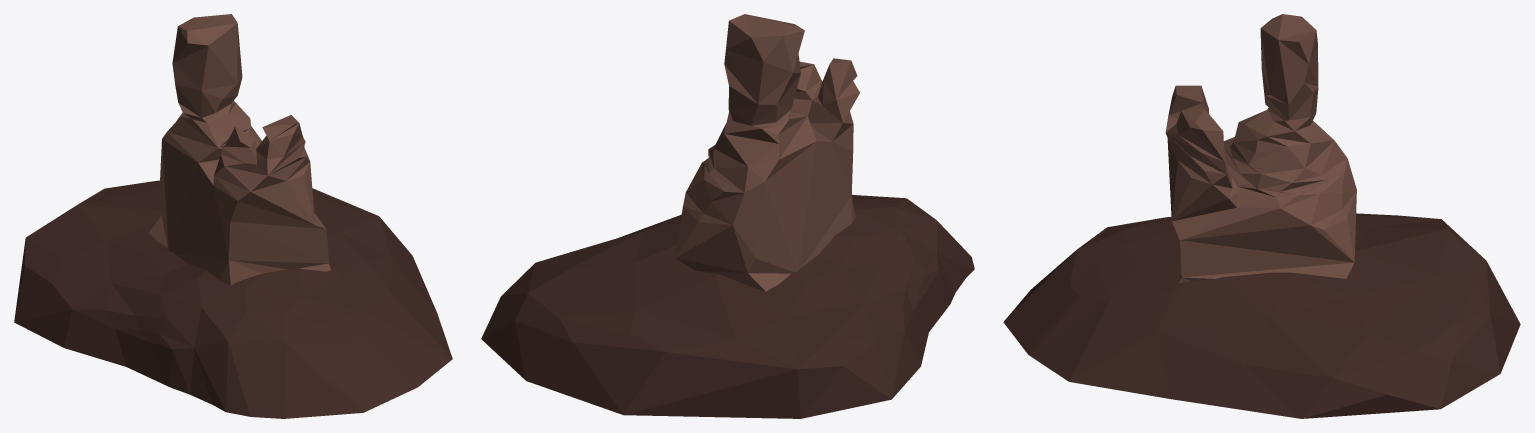
Rendered from Brown_rock_001.fbx.
The picture shows the model from 3 angles, left to right: view 1: azimuth 30°, elevation 25°; view 2: azimuth 150°, elevation 25°; view 3: azimuth 270°, elevation 25°; orthographic projection. The views are drawn at different scales.
Parts seen in each view (by area): view 1: Brown_rock_001; view 2: Brown_rock_001; view 3: Brown_rock_001.
Part boxes in pixels (x1=…): Brown_rock_001: x1=14, y1=14, x2=452, y2=418; Brown_rock_001: x1=481, y1=14, x2=974, y2=418; Brown_rock_001: x1=1003, y1=14, x2=1520, y2=418.
Size of the model in its own units: 1849 by 2249 by 1390.
